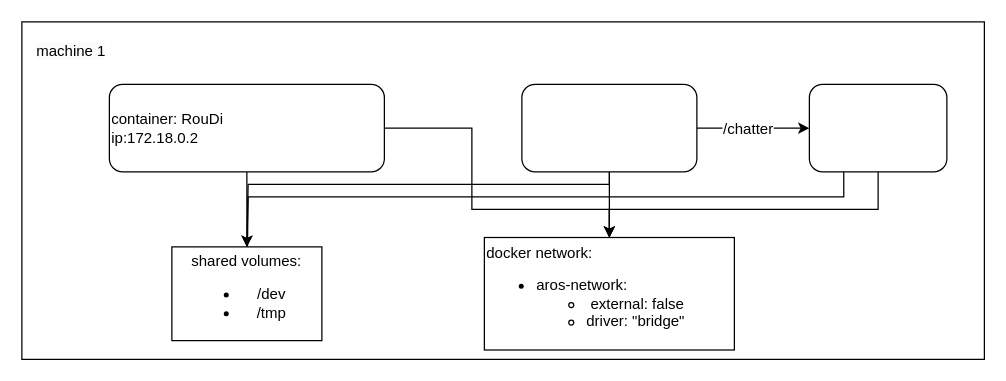
Image size: 1006x381. Some labels were removed from this diagram. Here are the shapes that lost their labels. From the top down, the box of each, then its label:
(521, 83, 697, 172): container: talker ip:172.18.0.3
(808, 83, 947, 172): container: listener ip:172.18.0.4
